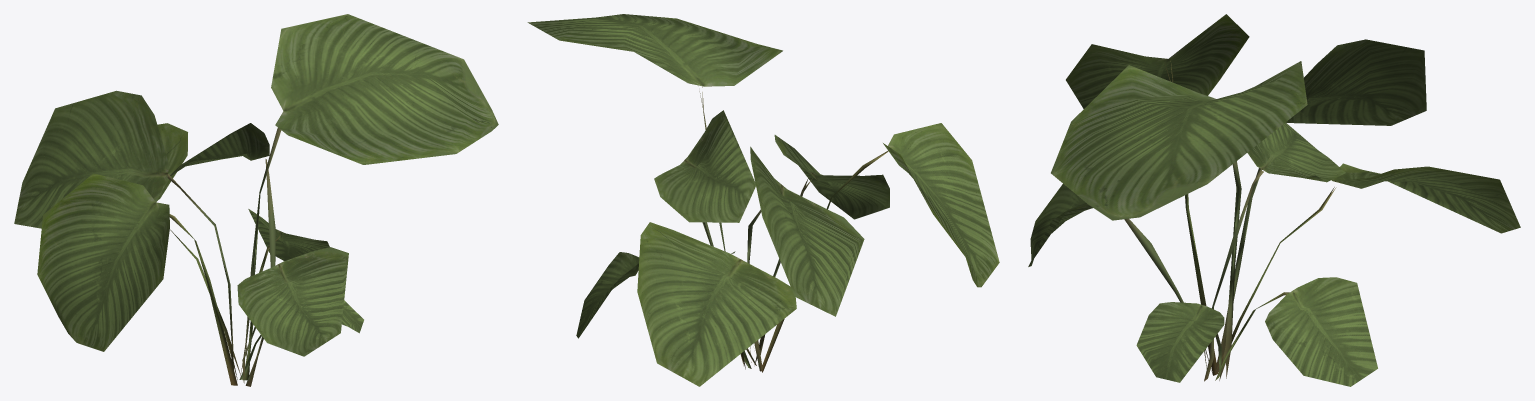
Rendered from Vine c LOD1.fbx.
3 renders of one model, left to right at view 1: azimuth 30°, elevation 25°; view 2: azimuth 150°, elevation 25°; view 3: azimuth 270°, elevation 25°, orthographic. The views are drawn at different scales.
Visible parts, largest first — view 1: calathea_orbifolia_01_a.001; view 2: calathea_orbifolia_01_a.001; view 3: calathea_orbifolia_01_a.001.
Part boxes in pixels (<box>): calathea_orbifolia_01_a.001: <box>14,14,498,386</box>; calathea_orbifolia_01_a.001: <box>527,14,999,386</box>; calathea_orbifolia_01_a.001: <box>1028,14,1520,386</box>.
Bounding box in the file's own units: 58.27 × 41 × 50.52.
